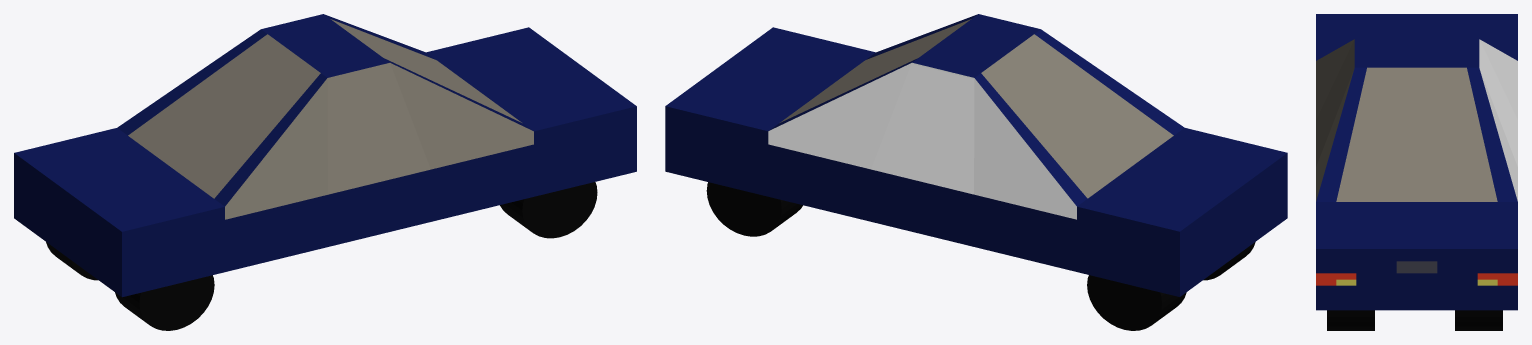
The model's file is Auto.fbx.
3 views of the same model, side by side, from view 1: azimuth 30°, elevation 25°; view 2: azimuth 150°, elevation 25°; view 3: azimuth 270°, elevation 25° (orthographic). The views are drawn at different scales.
Parts seen in each view (by area): view 1: Cube, Cylinder, Cylinder.003; view 2: Cube, Cylinder.002, Cylinder.001; view 3: Cube, Cylinder, Cylinder.001.
Part boxes in pixels (x1=…): Cube: x1=14, y1=14, x2=636, y2=297; Cylinder: x1=500, y1=182, x2=597, y2=238; Cylinder.003: x1=115, y1=275, x2=214, y2=330; Cube: x1=665, y1=14, x2=1287, y2=296; Cylinder.002: x1=1087, y1=275, x2=1186, y2=330; Cylinder.001: x1=706, y1=182, x2=802, y2=236; Cube: x1=1316, y1=14, x2=1517, y2=310; Cylinder: x1=1327, y1=310, x2=1374, y2=330; Cylinder.001: x1=1455, y1=310, x2=1502, y2=330.
Bounding box in the file's own units: 551 × 206 × 200.
5 materials, 5 textured.
